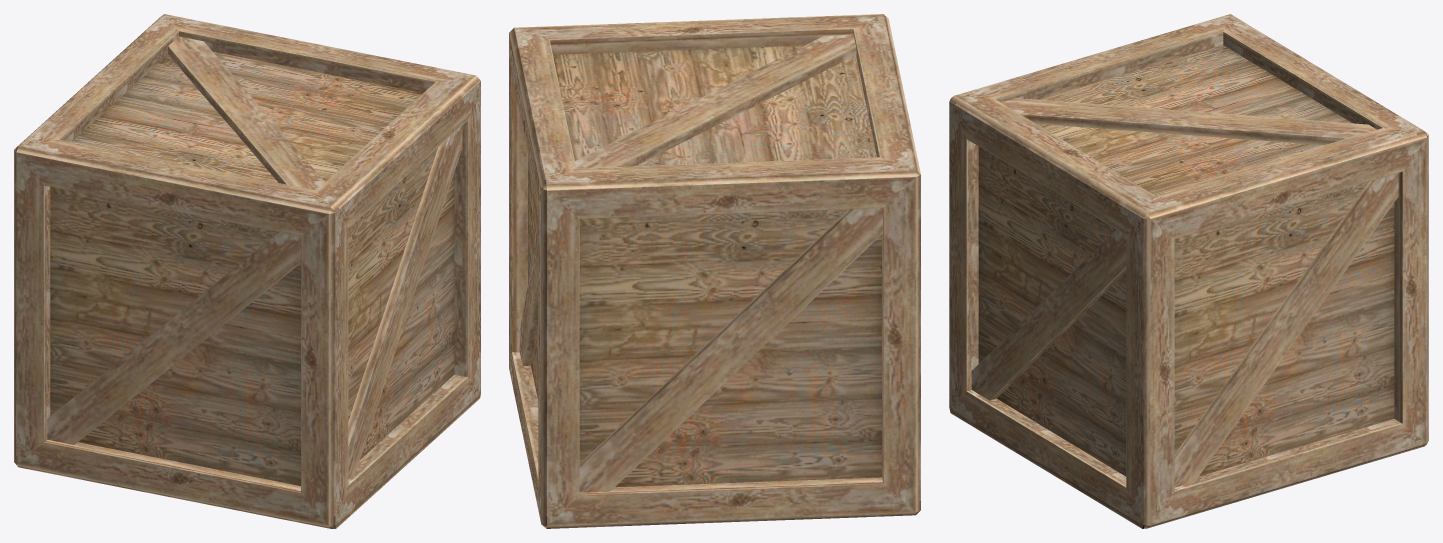
The model's file is pallettebox010_woodbox_dm_0_lev1.glb.
3 renders of one model, left to right at view 1: azimuth 30°, elevation 25°; view 2: azimuth 150°, elevation 25°; view 3: azimuth 270°, elevation 25°, orthographic. The views are drawn at different scales.
Parts seen in each view (by area): view 1: pallettebox010_woodbox_dm_0_lev1; view 2: pallettebox010_woodbox_dm_0_lev1; view 3: pallettebox010_woodbox_dm_0_lev1.
Boxes of the visible parts, x1=… form: pallettebox010_woodbox_dm_0_lev1: x1=14, y1=14, x2=480, y2=528; pallettebox010_woodbox_dm_0_lev1: x1=509, y1=14, x2=920, y2=528; pallettebox010_woodbox_dm_0_lev1: x1=949, y1=14, x2=1428, y2=528.
Bounding box in the file's own units: 1.11 × 0.803 × 1.11.
1 material, 1 textured.
